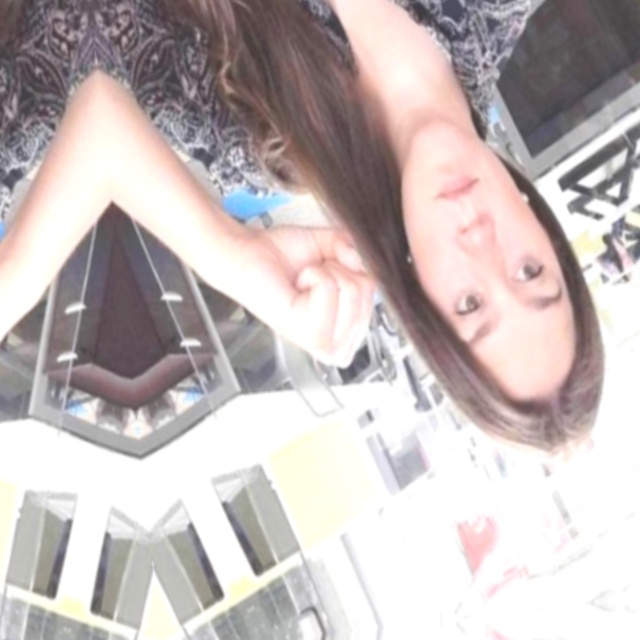Rock: (0, 198, 42, 463)
